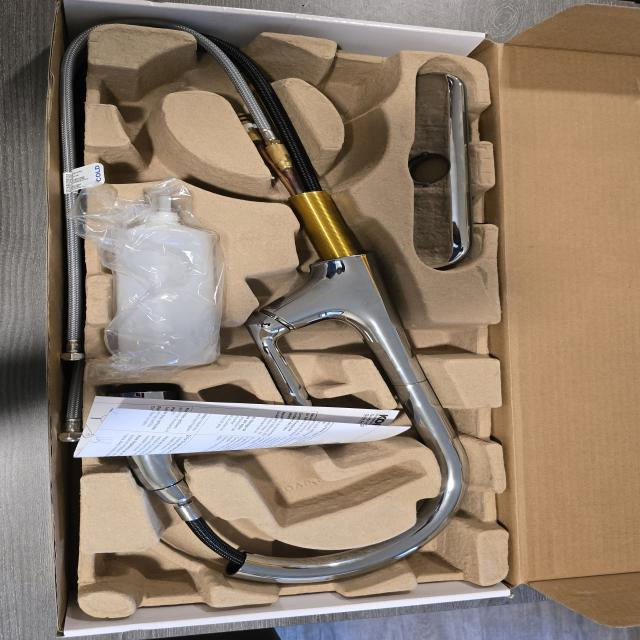1o: (99, 28, 472, 587)
2m: (200, 378, 424, 527)
3: (114, 192, 216, 366)
4: (409, 73, 471, 269)
5m: (316, 64, 390, 114)
6m: (96, 52, 196, 119)
7m: (99, 123, 239, 191)
8: (73, 394, 411, 457)
